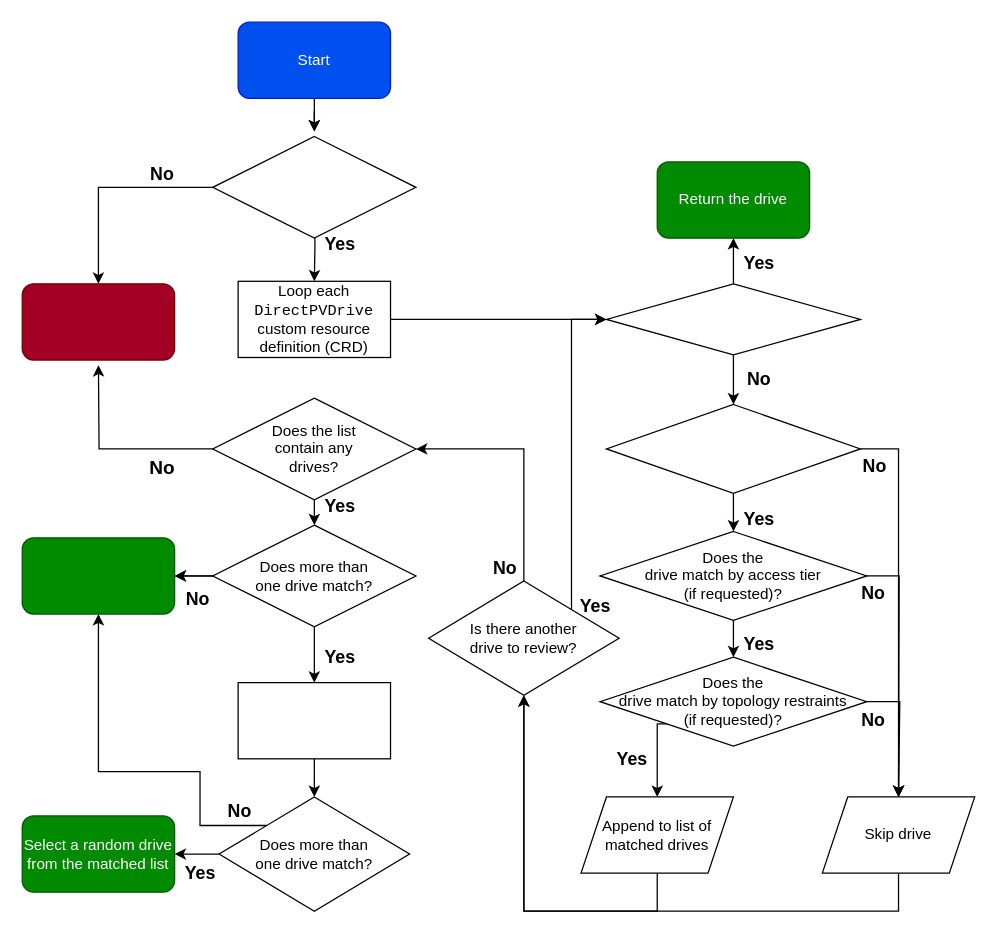
This 997x944 diagram has some shape labels left out. The centre of each missing label's shape, as x and y in pixels:
"Does the drive match by capacity?" goes at point (732, 448).
"Filter drives by maximum free capacity" goes at point (314, 720).
"Is this a valid CreateVolume request?" goes at point (313, 186).
"Is this the requested volume?" goes at point (732, 319).
"Return Error" goes at point (98, 321).
"Return the matched drive" goes at point (98, 575).
